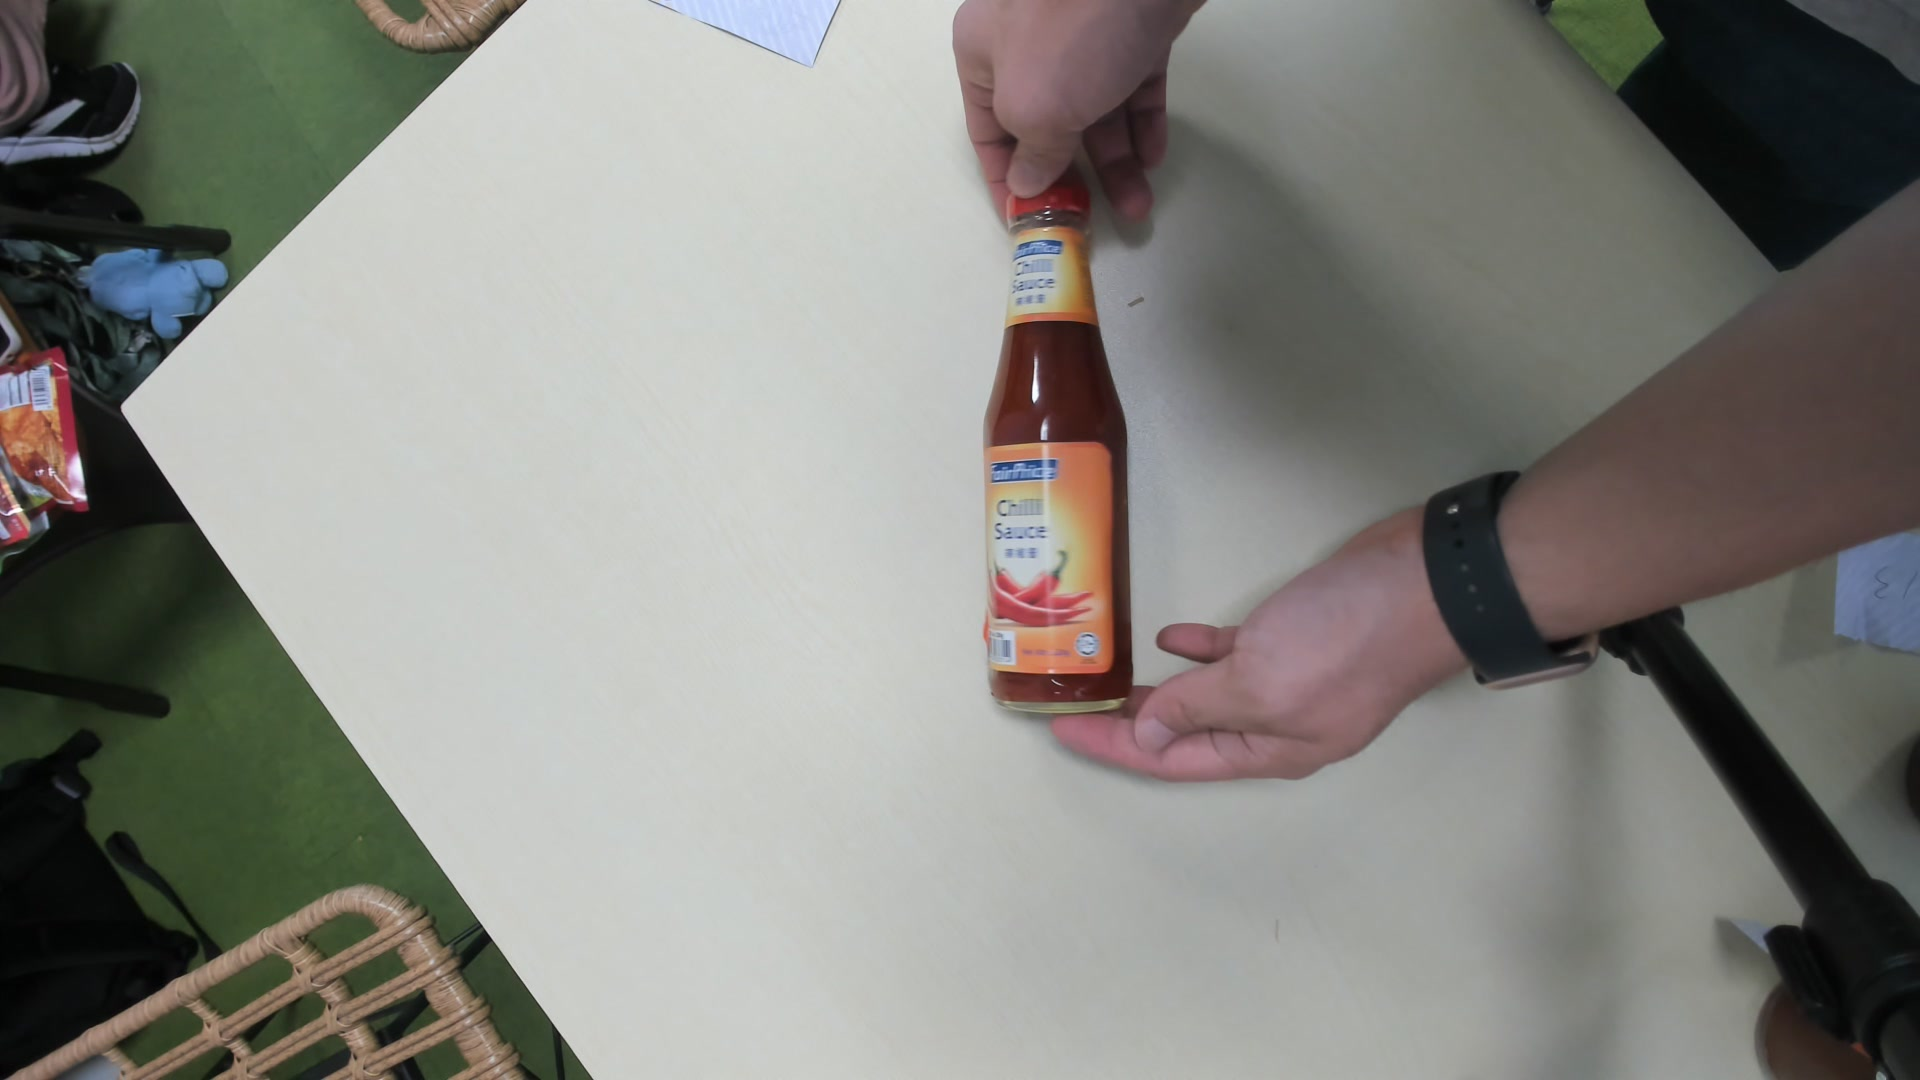KetchupChillSauce_300-399g_Halal_NonHealthy: (973, 178, 1139, 723)
